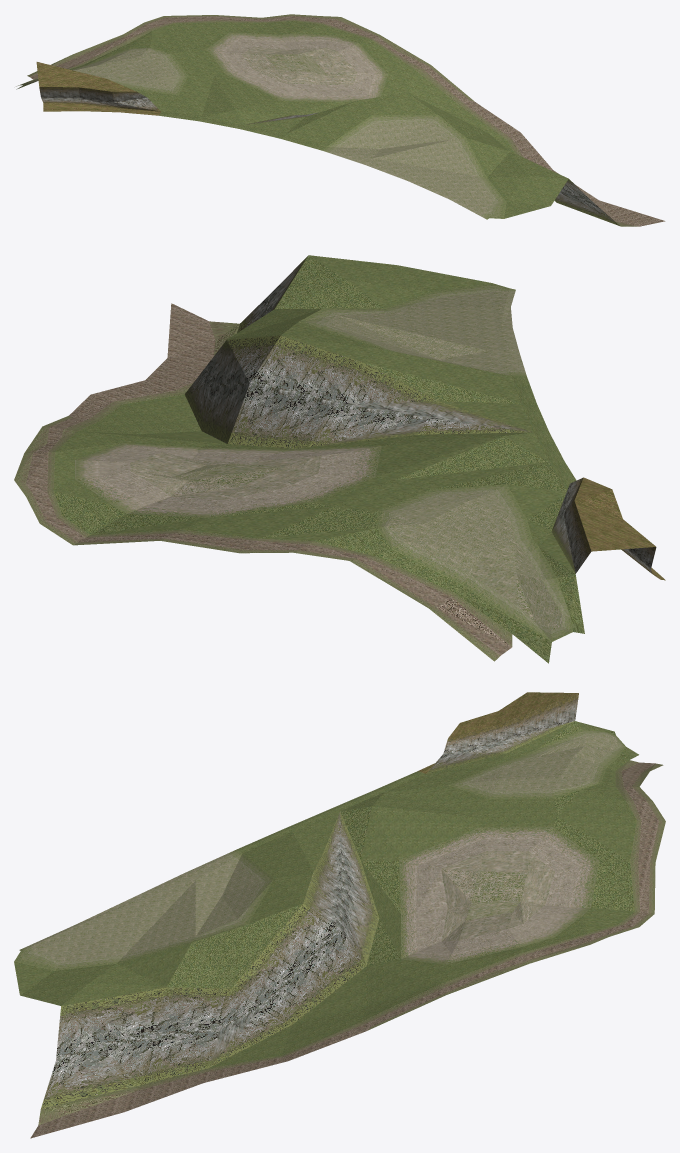
Rendered from lodcuntw43.obj.
The picture shows the model from 3 angles, top to bottom: view 1: azimuth 30°, elevation 25°; view 2: azimuth 150°, elevation 25°; view 3: azimuth 270°, elevation 25°; orthographic projection. The views are drawn at different scales.
Parts seen in each view (by area): view 1: lodcuntw43; view 2: lodcuntw43; view 3: lodcuntw43.
Part boxes in pixels (box(x1,y1,x2,y2)): lodcuntw43: box(16, 14, 665, 226); lodcuntw43: box(14, 255, 665, 663); lodcuntw43: box(14, 692, 665, 1138).
Bounding box in the file's own units: 297 × 75.93 × 276.
11 materials, 11 textured.
